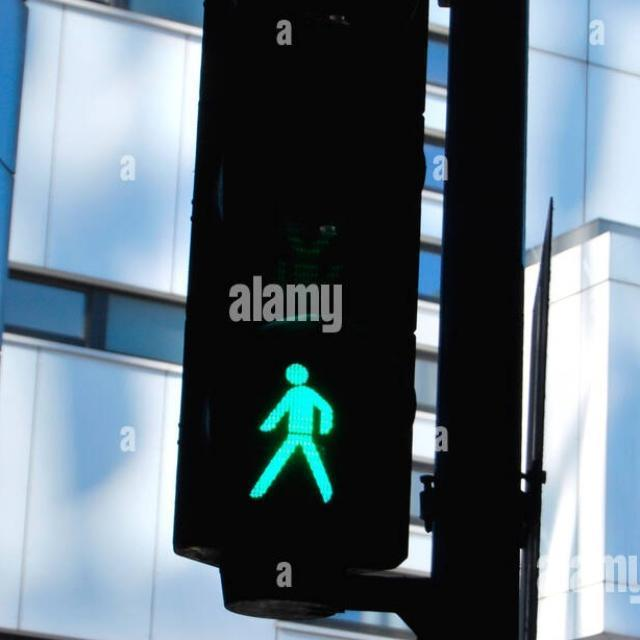geen-crossing: (228, 343, 354, 519)
